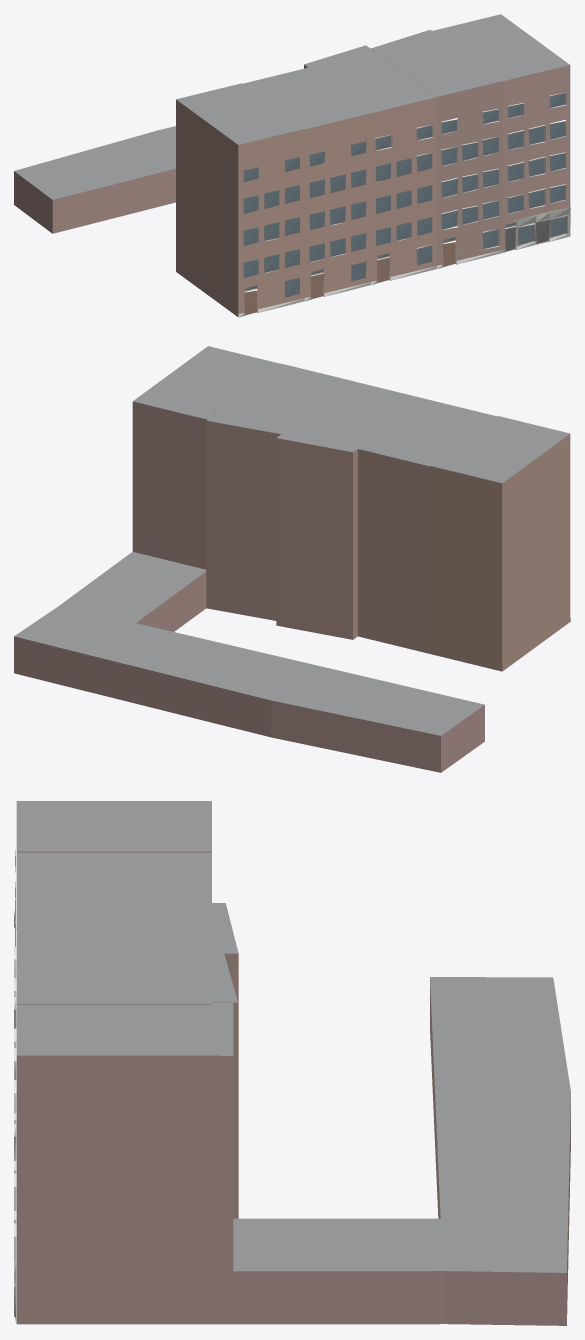
The model's file is chunk-face-kate-5-21-r1.lod2.glb.
3 views of the same model, one above another, from view 1: azimuth 30°, elevation 25°; view 2: azimuth 150°, elevation 25°; view 3: azimuth 270°, elevation 25° (orthographic). The views are drawn at different scales.
Parts seen in each view (by area): view 1: lod2; view 2: lod2; view 3: lod2.
Boxes of the visible parts, x1,y1,x2,y2 form: lod2: (14,14,570,317); lod2: (14,346,570,772); lod2: (14,801,570,1325).
Size of the model in its own units: 35.86 by 15.25 by 28.52.
